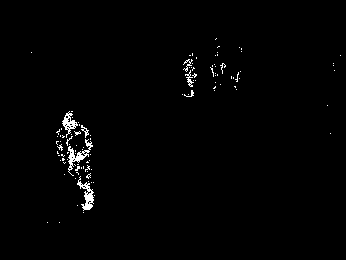person: (55, 110, 96, 211), (180, 52, 199, 100)
